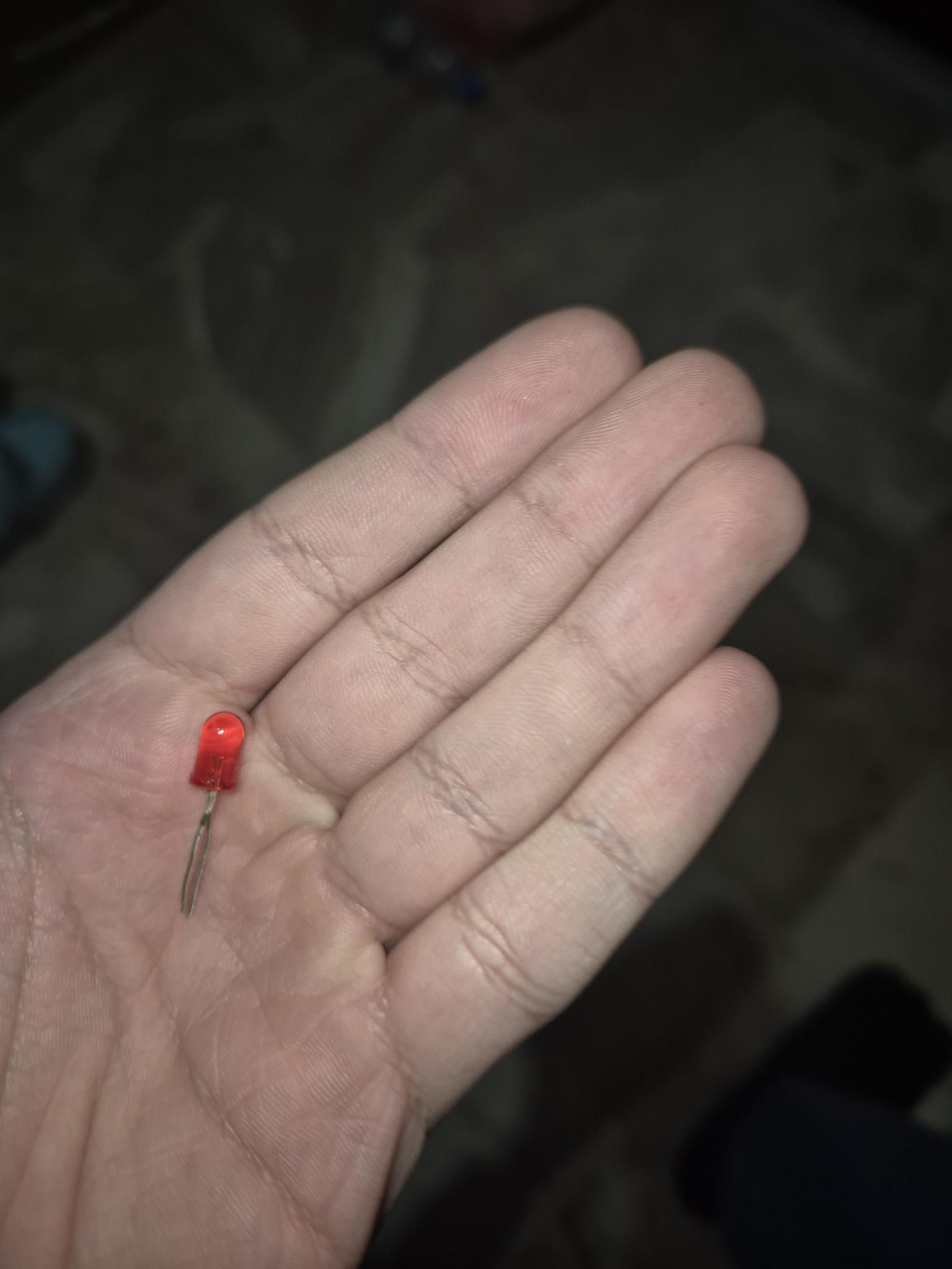led-diode: (181, 712, 246, 915)
